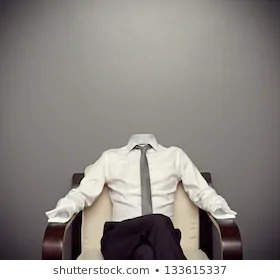F_shirt: (46, 135, 235, 217)
F_tie: (136, 143, 153, 215)
